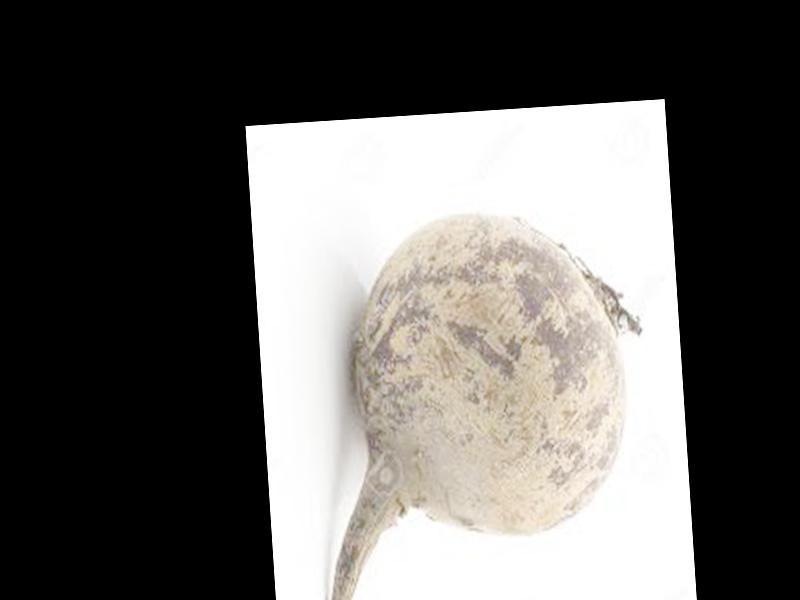Beet: (303, 202, 659, 600)
